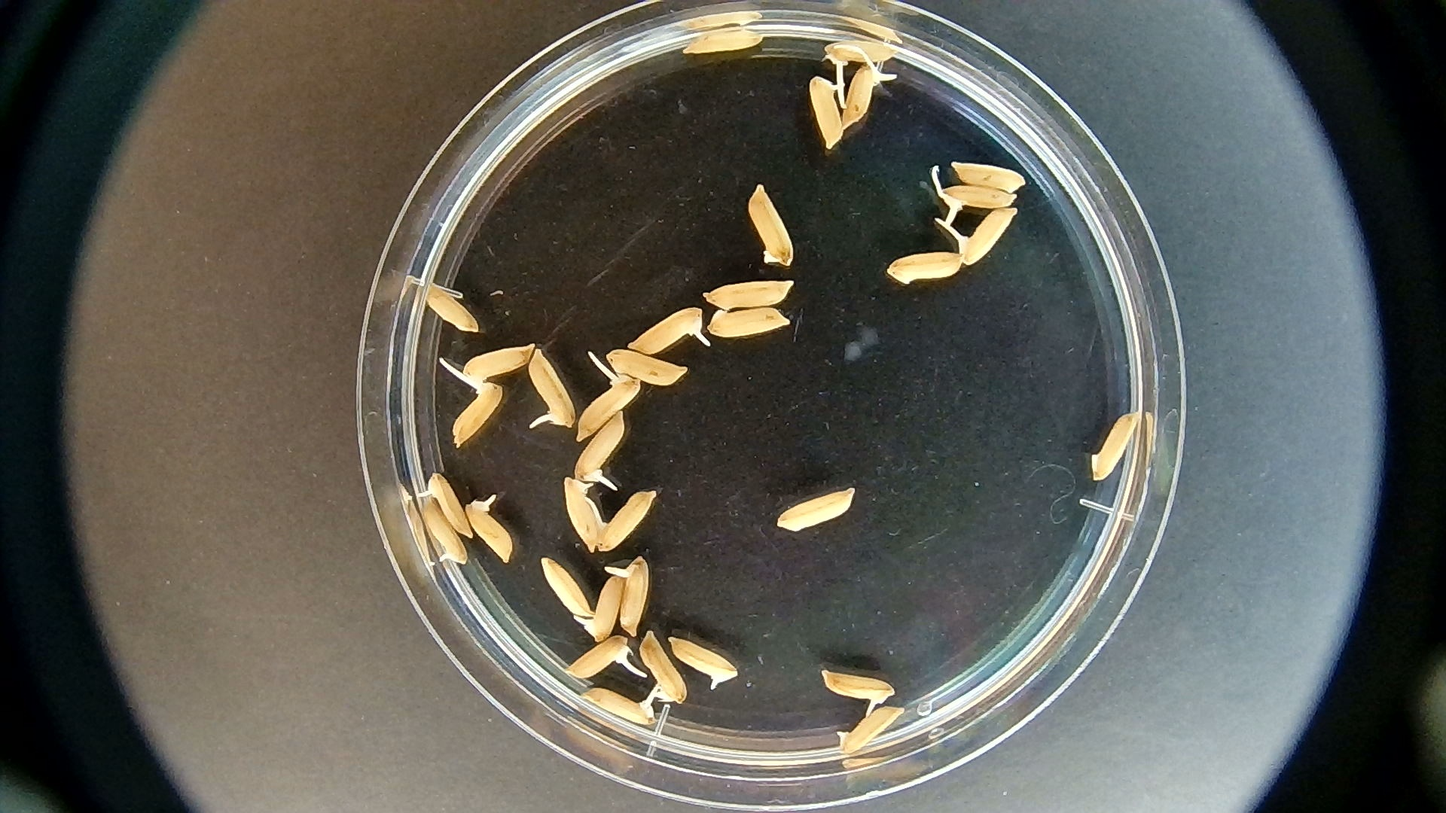no: (746, 181, 796, 267), (1089, 408, 1144, 485), (776, 487, 858, 533), (639, 630, 689, 704), (838, 705, 908, 757), (417, 496, 468, 565), (605, 348, 691, 386), (538, 556, 593, 615), (423, 282, 480, 334), (702, 279, 793, 311), (886, 250, 966, 285), (708, 306, 792, 339), (462, 343, 536, 379), (952, 159, 1025, 193), (680, 28, 765, 56)
yes: (574, 370, 642, 443), (587, 489, 660, 554), (574, 409, 627, 490), (627, 306, 710, 355), (668, 635, 737, 690), (417, 472, 472, 539), (527, 350, 573, 428), (465, 497, 518, 563), (607, 557, 651, 636), (576, 573, 625, 643), (844, 65, 897, 127), (958, 212, 1020, 264), (453, 380, 505, 442), (563, 477, 603, 554), (821, 670, 895, 711), (581, 686, 656, 726), (566, 636, 637, 678), (809, 75, 843, 151), (938, 187, 1017, 219), (824, 39, 898, 67)
